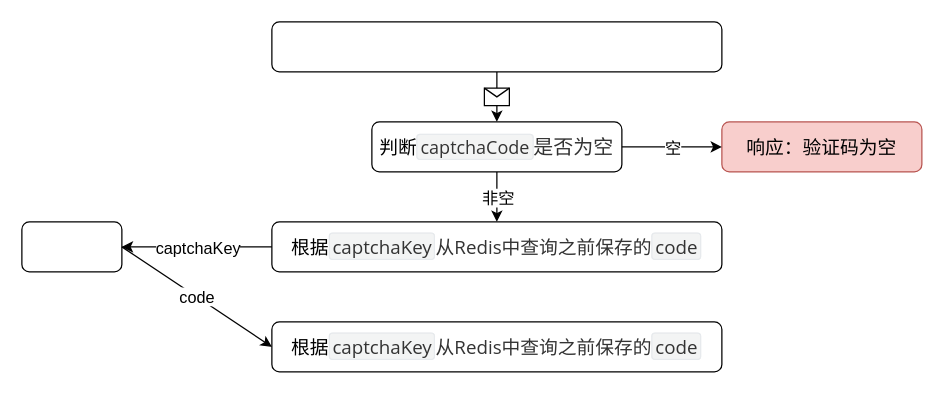
Image size: 944x394. Some labels were removed from this diagram. Here are the shapes that lost their labels. From the top down, the box of each, then its label:
(271, 21, 722, 72): username password captchaKey captchaCode
(21, 221, 122, 272): Redis
